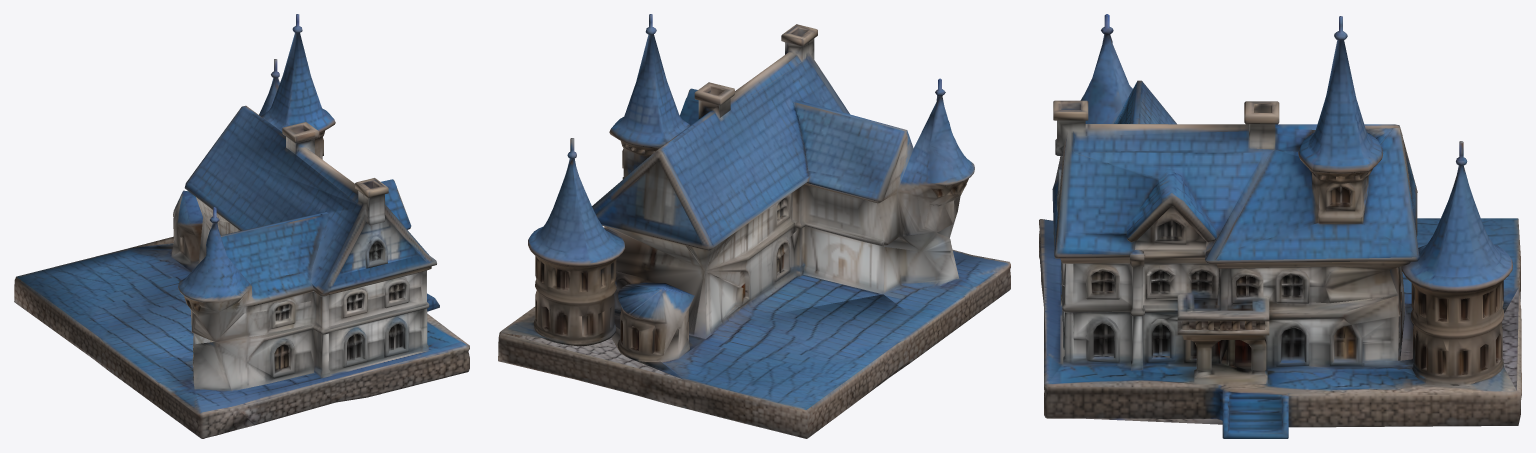
Rendered from trade_league.fbx.
The picture shows the model from 3 angles, left to right: view 1: azimuth 30°, elevation 25°; view 2: azimuth 150°, elevation 25°; view 3: azimuth 270°, elevation 25°; orthographic projection. The views are drawn at different scales.
Visible parts, largest first — view 1: texture_pbr_v128; view 2: texture_pbr_v128; view 3: texture_pbr_v128.
Part boxes in pixels (left/top/right/bottom): texture_pbr_v128: left=14, top=14, right=469, bottom=438; texture_pbr_v128: left=498, top=14, right=1010, bottom=438; texture_pbr_v128: left=1039, top=14, right=1521, bottom=438.
Size of the model in its own units: 181 by 160 by 190.
Materials: 1 (1 with a texture image).
